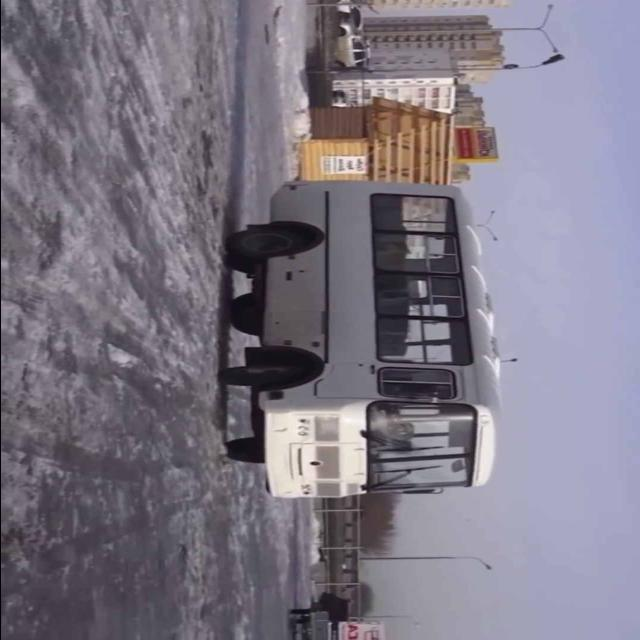bus: (216, 178, 508, 504)
